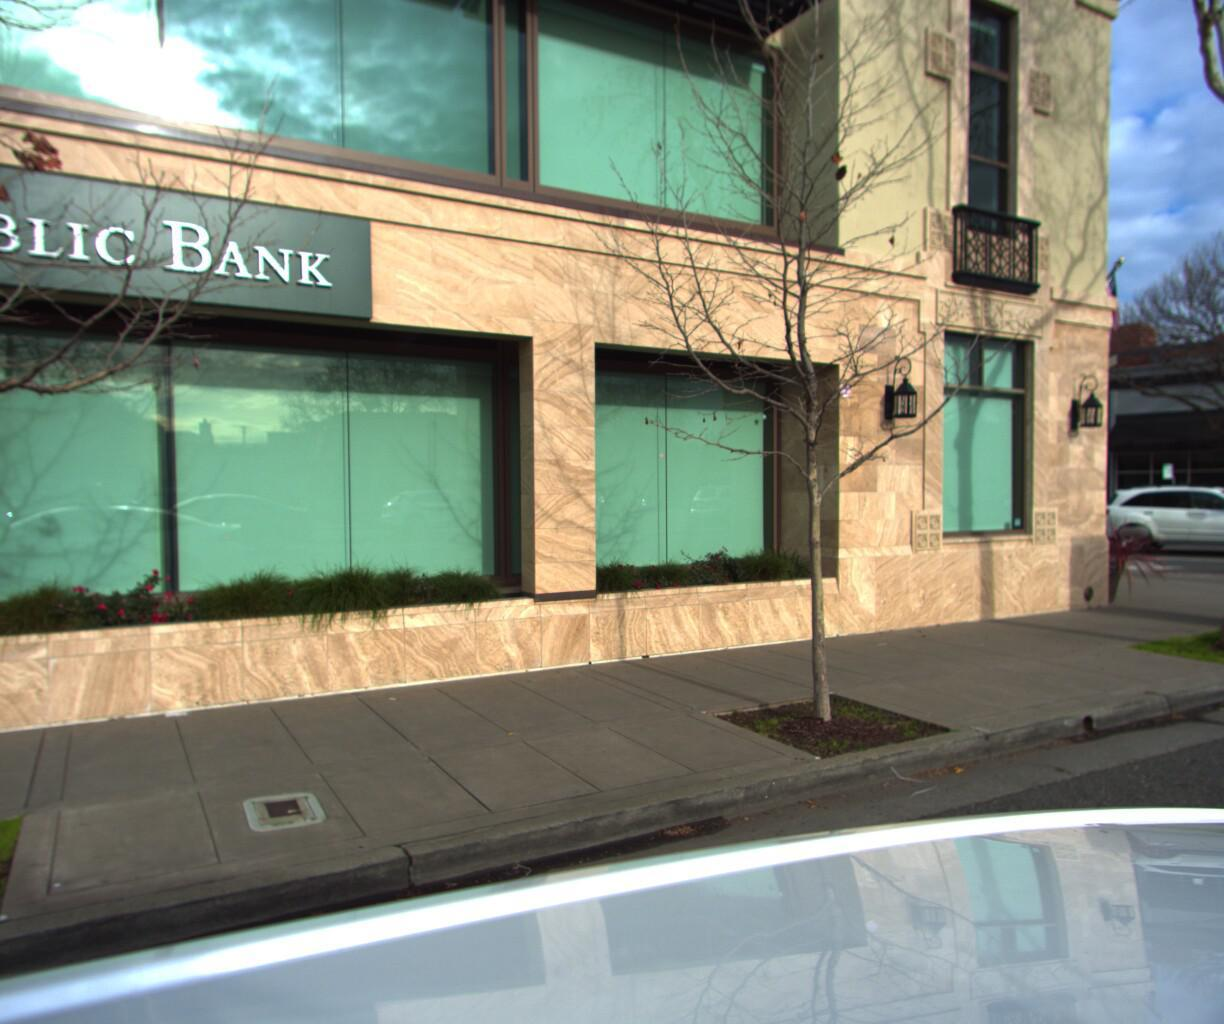car: (1098, 474, 1224, 550)
